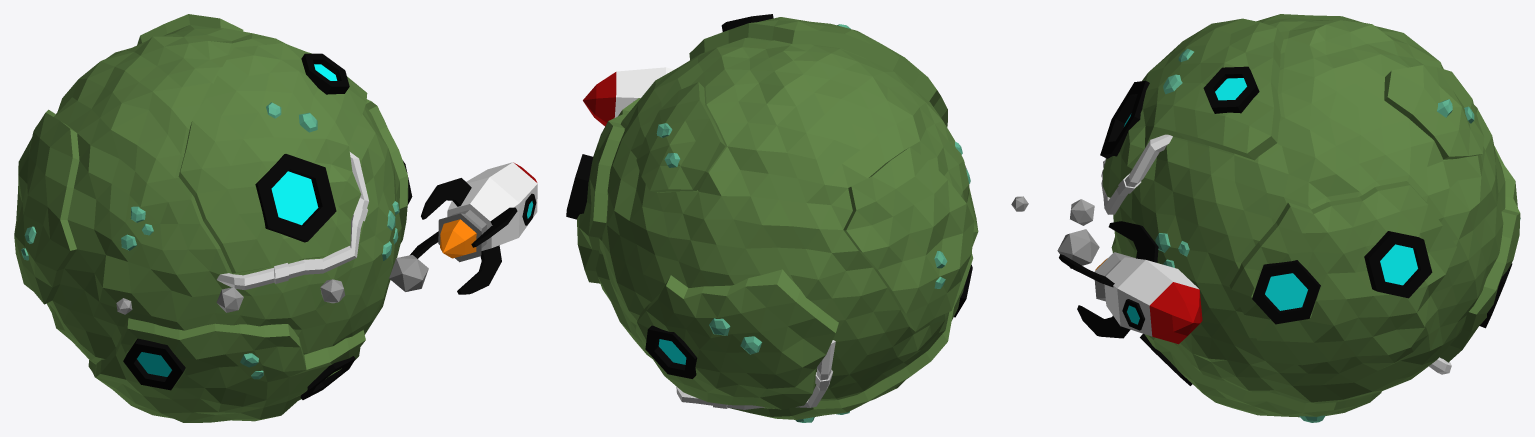
File: resource_planet.glb
The picture shows the model from 3 angles, left to right: view 1: azimuth 30°, elevation 25°; view 2: azimuth 150°, elevation 25°; view 3: azimuth 270°, elevation 25°; orthographic projection. The views are drawn at different scales.
Parts seen in each view (by area): view 1: RESCOURCE_BASE, RESCOURCE_PLATTFORM, ROCKET, MINER, PIPES, RESCOURCE_STONES; view 2: RESCOURCE_BASE, RESCOURCE_PLATTFORM, MINER, ROCKET, RESCOURCE_STONES, PIPES; view 3: RESCOURCE_BASE, RESCOURCE_PLATTFORM, MINER, ROCKET, PIPES, RESCOURCE_STONES.
Part boxes in pixels (x1,y1,x2,y2): RESCOURCE_BASE: (46, 25, 401, 386); RESCOURCE_PLATTFORM: (14, 14, 408, 422); ROCKET: (116, 162, 537, 314); MINER: (123, 53, 412, 399); PIPES: (217, 152, 368, 290); RESCOURCE_STONES: (21, 102, 399, 379); RESCOURCE_BASE: (595, 37, 978, 408); RESCOURCE_PLATTFORM: (577, 17, 974, 419); MINER: (566, 14, 972, 378); ROCKET: (583, 67, 1028, 211); RESCOURCE_STONES: (656, 24, 970, 422); PIPES: (676, 340, 835, 409); RESCOURCE_BASE: (1113, 14, 1505, 403); RESCOURCE_PLATTFORM: (1102, 18, 1520, 417); MINER: (1100, 66, 1512, 385); ROCKET: (1057, 160, 1202, 344); PIPES: (1101, 134, 1451, 374); RESCOURCE_STONES: (1155, 48, 1520, 422).
Size of the model in its own units: 2.69 by 2.17 by 2.39.
Materials: 1 (1 with a texture image).
